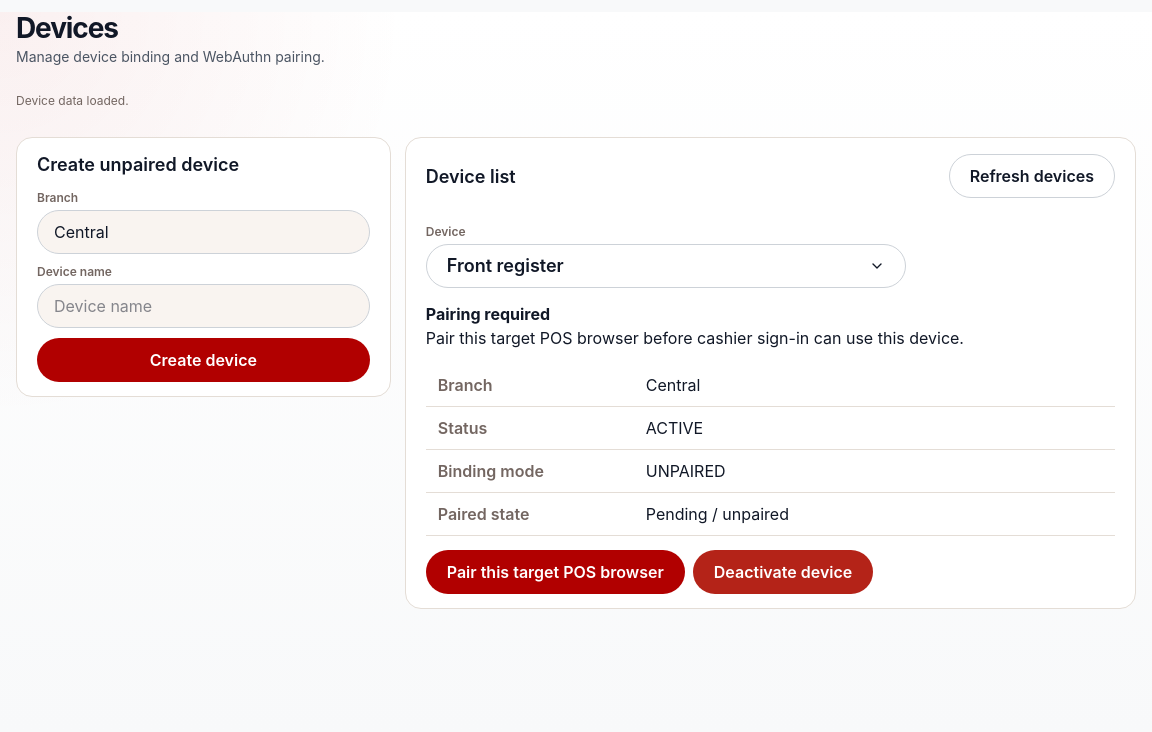
Test: DeviceManagement › disables stale device actions after refresh failure and re-enables after recovery
The image size is (1152, 732).
Expected: the button "Pair this target POS browser" is shown, x1=426 y1=550 x2=685 y2=594
Click the button "Refresh devices": (1032, 176) x1=949 y1=154 x2=1115 y2=198
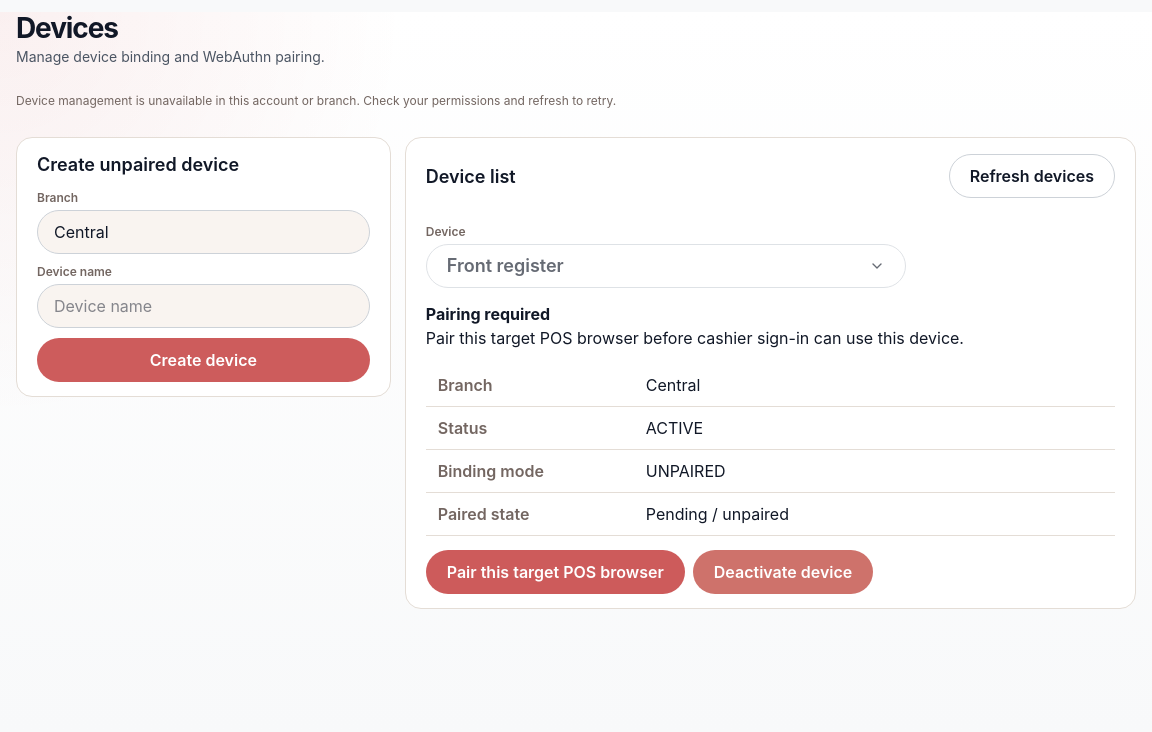
Result: the text "unavailable in this account or branch" is shown at x1=16 y1=93 x2=616 y2=108
Result: the button with aria-label "Device: Front register" is disabled at x1=426 y1=244 x2=906 y2=288
Result: the button "Pair this target POS browser" is disabled at x1=426 y1=550 x2=685 y2=594
Click the button "Refresh devices": (1032, 176) x1=949 y1=154 x2=1115 y2=198
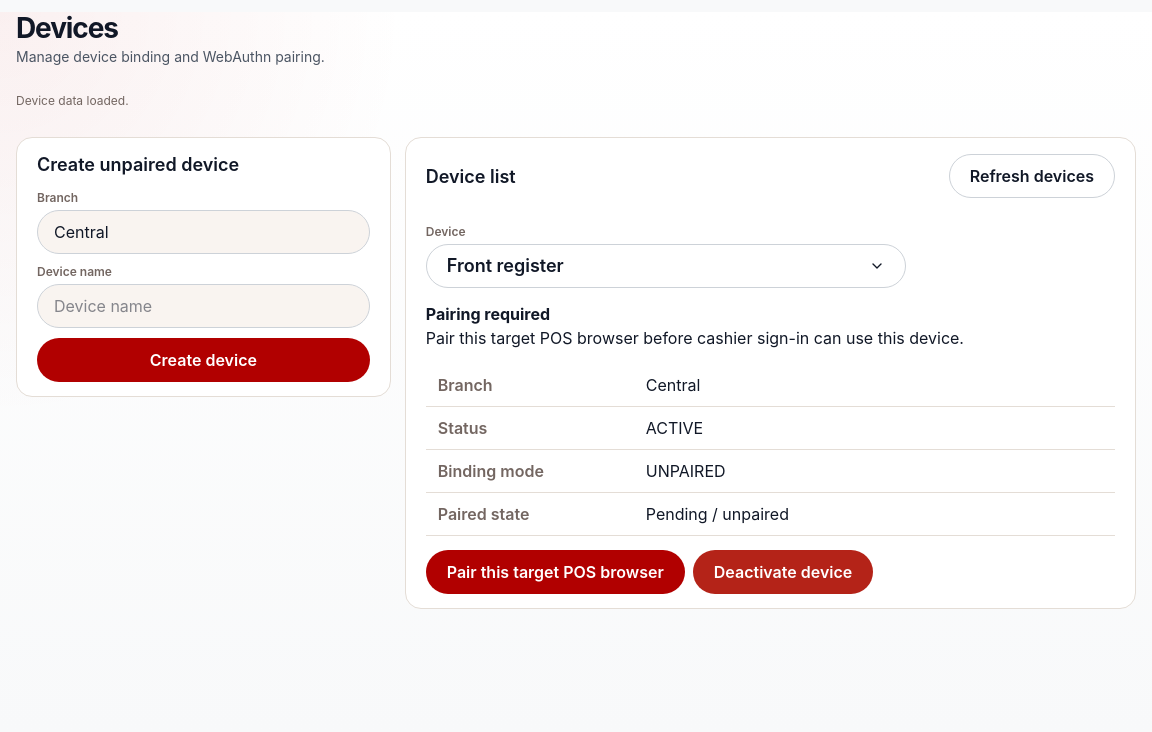
Result: the button "Pair this target POS browser" is enabled at x1=426 y1=550 x2=685 y2=594
